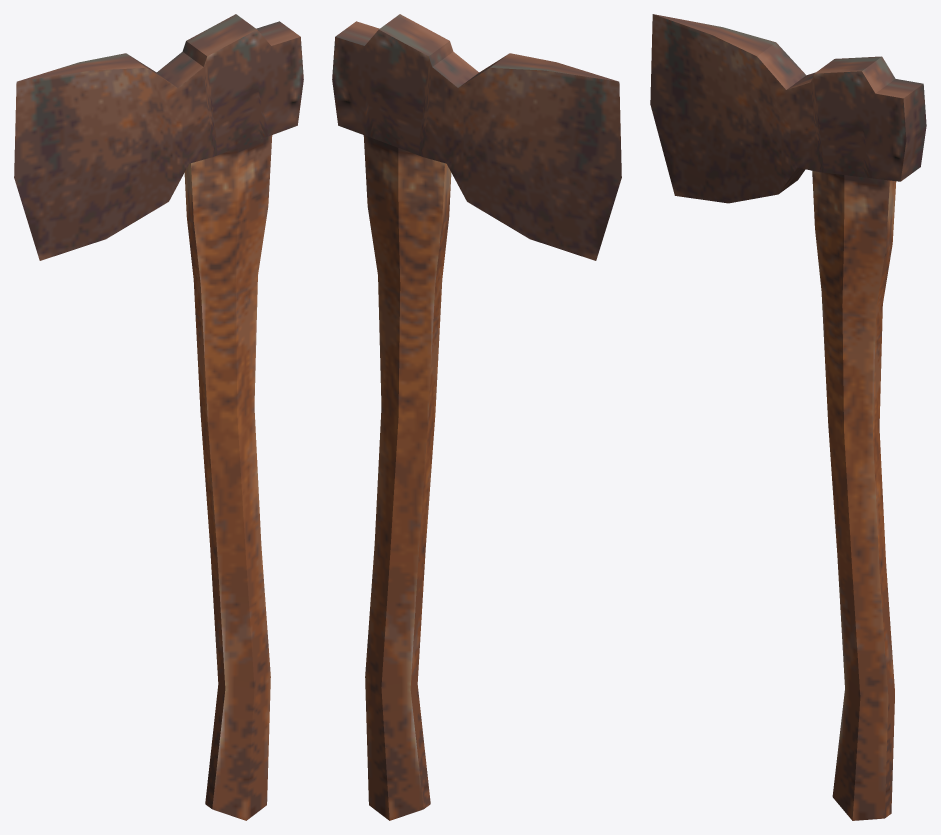
Rendered from OldHatchet.fbx.
3 renders of one model, left to right at view 1: azimuth 30°, elevation 25°; view 2: azimuth 150°, elevation 25°; view 3: azimuth 330°, elevation 25°, orthographic. The views are drawn at different scales.
Visible parts, largest first — view 1: Cube.002; view 2: Cube.002; view 3: Cube.002.
Part boxes in pixels (x1,y1,x2,y2): Cube.002: [14, 14, 303, 820]; Cube.002: [332, 14, 621, 820]; Cube.002: [650, 14, 926, 820].
Size of the model in its own units: 292 by 790 by 38.43.
